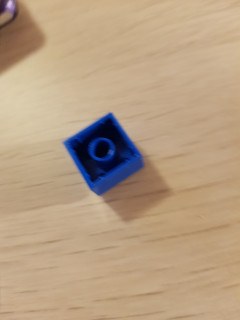2x2 blue: (59, 111, 148, 198)
